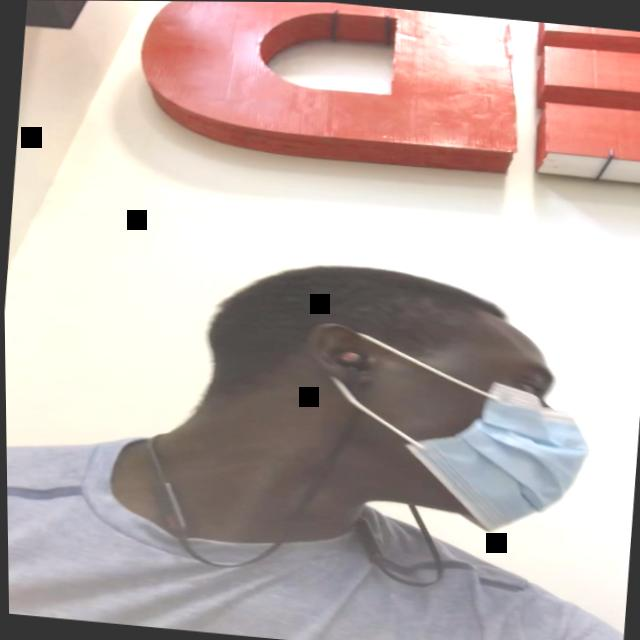Mask: (325, 306, 599, 539)
